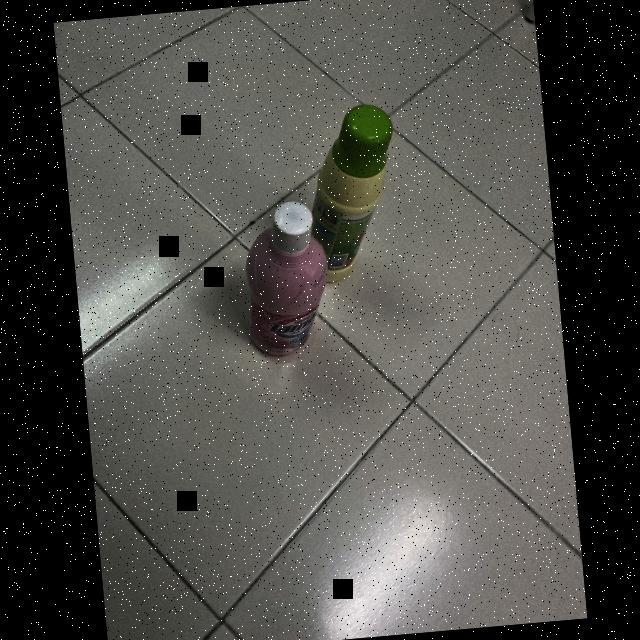chemical_plastic_bottle: (235, 192, 348, 366), (298, 98, 407, 267)
